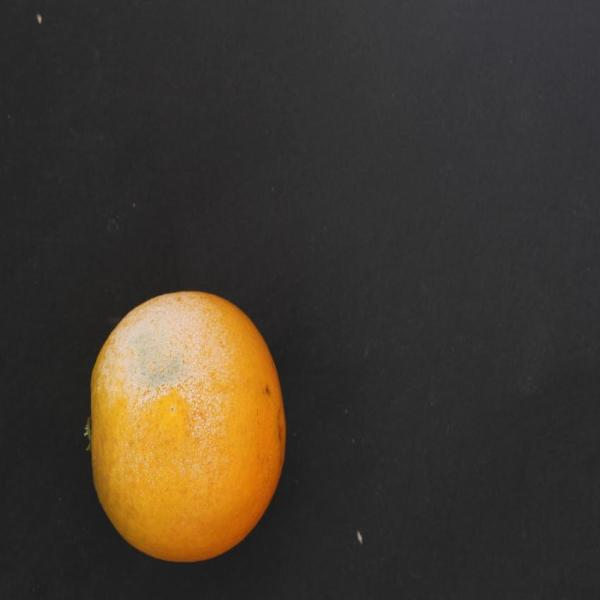Moho verde: (76, 276, 301, 570)
